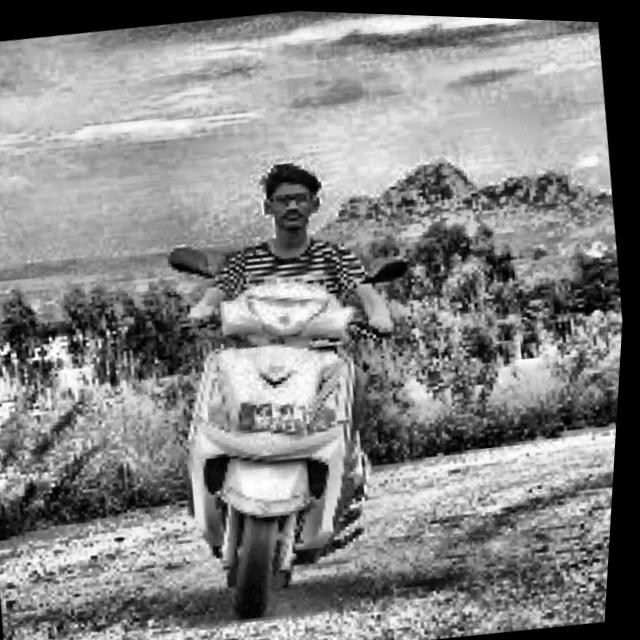motorcycle: (113, 205, 442, 633)
